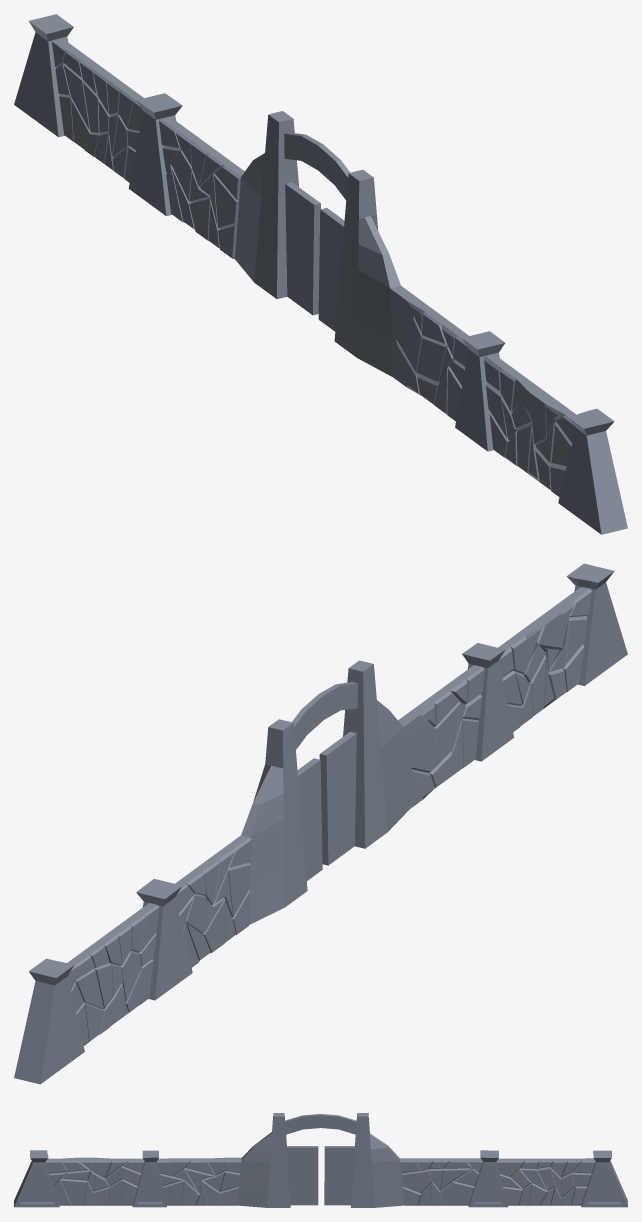
The model's file is portal_lvl2.fbx.
The picture shows the model from 3 angles, top to bottom: view 1: azimuth 30°, elevation 25°; view 2: azimuth 150°, elevation 25°; view 3: azimuth 270°, elevation 25°; orthographic projection. The views are drawn at different scales.
Parts seen in each view (by area): view 1: portal_lvl2, gate2_lvl2, gate1_lvl2; view 2: portal_lvl2, gate1_lvl2, gate2_lvl2; view 3: portal_lvl2, gate1_lvl2, gate2_lvl2.
Boxes of the visible parts, x1,y1,x2,y2 form: portal_lvl2: (14, 14, 627, 534); gate2_lvl2: (285, 182, 320, 315); gate1_lvl2: (318, 208, 344, 331); portal_lvl2: (14, 563, 627, 1084); gate1_lvl2: (319, 731, 356, 865); gate2_lvl2: (297, 758, 322, 880); portal_lvl2: (14, 1113, 627, 1207); gate1_lvl2: (286, 1146, 318, 1205); gate2_lvl2: (324, 1146, 354, 1205).
Bounding box in the file's own units: 0.8923 × 4.76 × 29.6.
